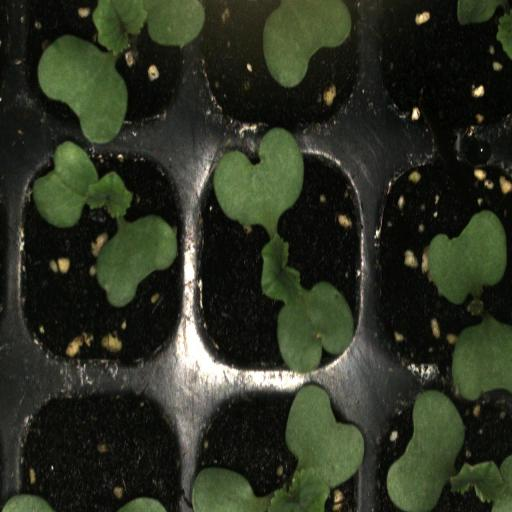seedling: (188, 134, 372, 380), (13, 135, 189, 369), (375, 137, 512, 381), (12, 0, 193, 137), (186, 385, 370, 512), (371, 383, 512, 512)
